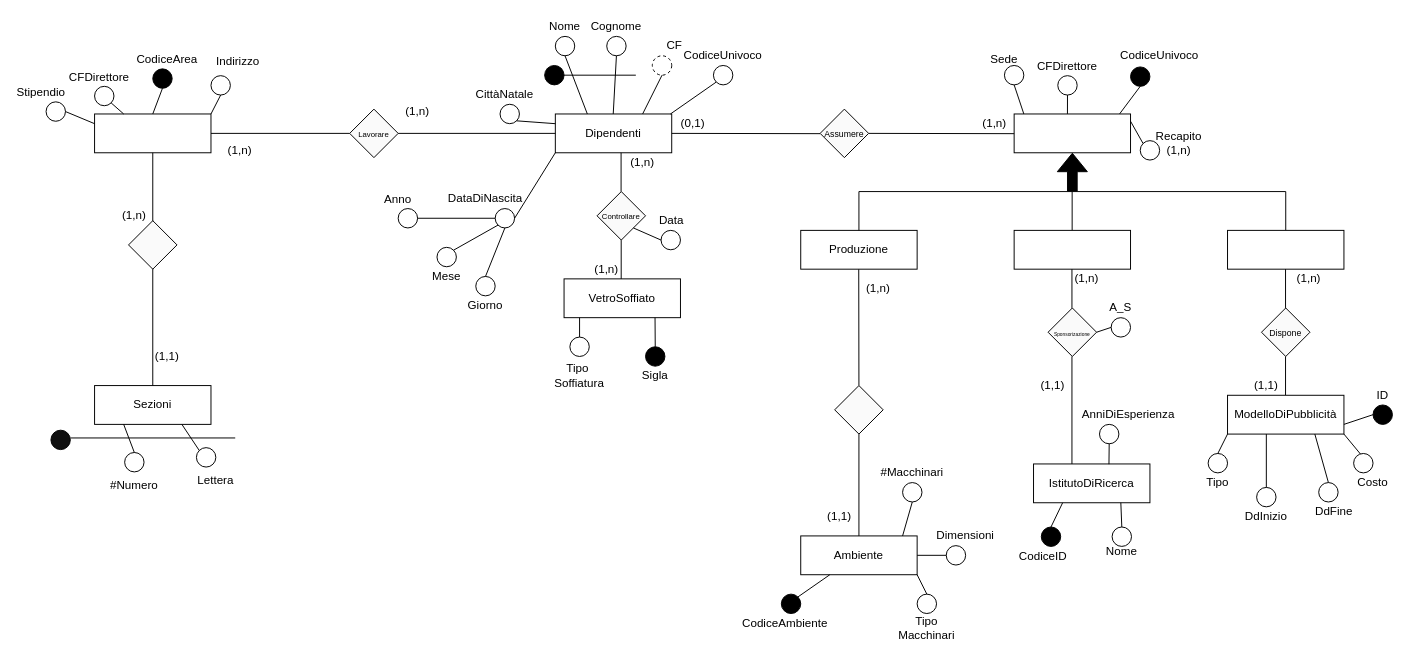
Image size: 1409x659. Some labels were removed from this diagram. The shapes that lost their labels are listed below. From the top down, each one's centre as x and y in pixels, then its label:
the point at 152,133: Dipartimento
the point at 1072,133: Area
the point at 152,244: Costituire
the point at 1072,249: Sviluppo
the point at 1285,249: Commercializzazione
the point at 858,409: Coinvolge
